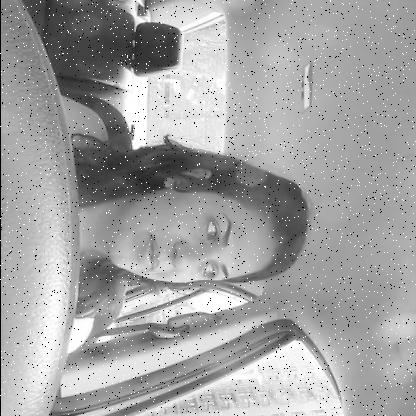no_seatbelt: (0, 138, 326, 346)
